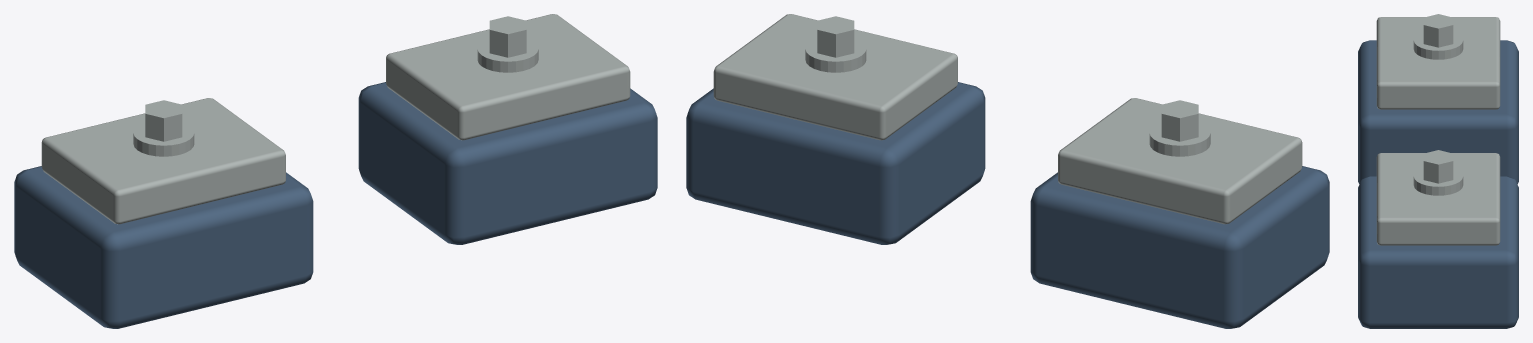
Rendered from spacecraft-parachute-packing-hall-spacecraft-parachute-97dc5fa5__32099.glb.
3 views of the same model, side by side, from view 1: azimuth 30°, elevation 25°; view 2: azimuth 150°, elevation 25°; view 3: azimuth 270°, elevation 25° (orthographic). The views are drawn at different scales.
Visible parts, largest first — view 1: spacecraft-parachute-packing-hall-specimen-grip-pair; view 2: spacecraft-parachute-packing-hall-specimen-grip-pair; view 3: spacecraft-parachute-packing-hall-specimen-grip-pair.
Boxes of the visible parts, <box> form: spacecraft-parachute-packing-hall-specimen-grip-pair: <box>14,14,657,328</box>; spacecraft-parachute-packing-hall-specimen-grip-pair: <box>686,14,1329,328</box>; spacecraft-parachute-packing-hall-specimen-grip-pair: <box>1358,14,1518,328</box>.
Bounding box in the file's own units: 0.42 × 0.12 × 0.13.
